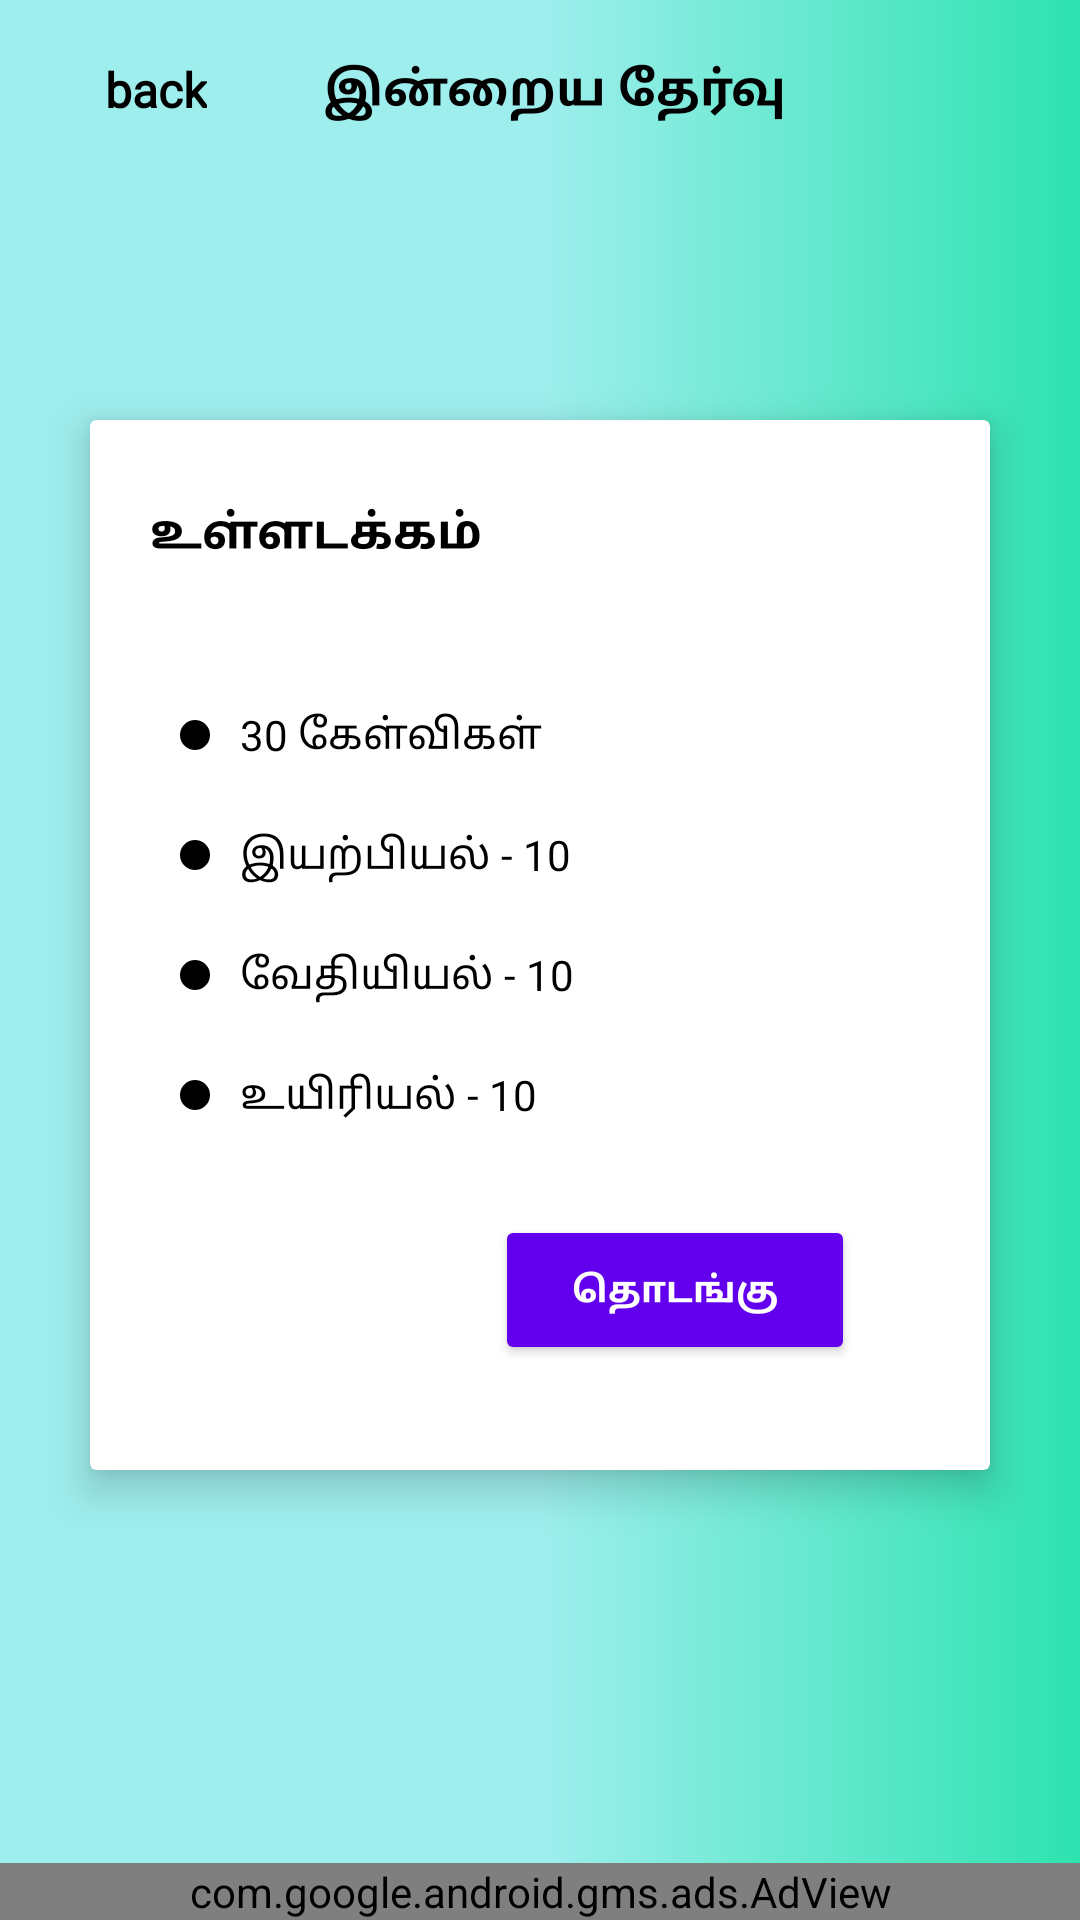

Locate icon controls on the screen. Image size 1080*1920, boxes as (x1, y1, x2, y2).
dot: (180, 720, 210, 750), (180, 840, 210, 870), (180, 960, 210, 990), (180, 1080, 210, 1110)
